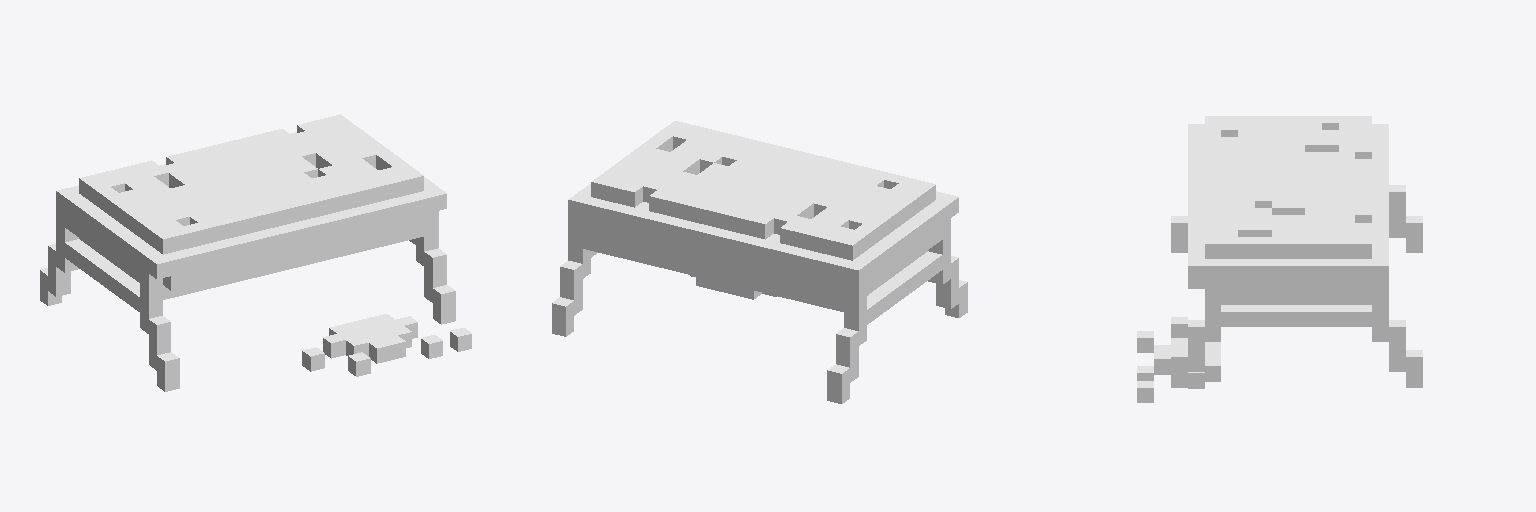
The model's file is house_seat.obj.
The picture shows the model from 3 angles: view 1: azimuth 30°, elevation 25°; view 2: azimuth 150°, elevation 25°; view 3: azimuth 270°, elevation 25°; orthographic projection.
Visible parts, largest first — view 1: house_seat; view 2: house_seat; view 3: house_seat.
Part boxes in pixels (bbox=[...]): house_seat: bbox=[40, 114, 471, 391]; house_seat: bbox=[552, 121, 967, 403]; house_seat: bbox=[1137, 116, 1422, 402].
Size of the model in its own units: 20 by 10 by 17.